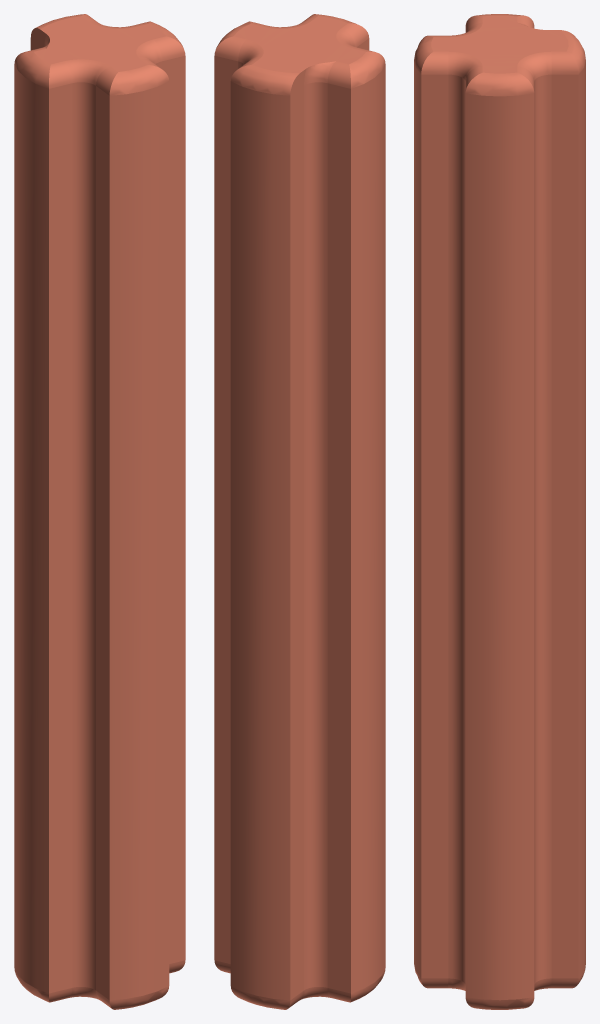
3 views of the same model, side by side, from view 1: azimuth 30°, elevation 25°; view 2: azimuth 150°, elevation 25°; view 3: azimuth 270°, elevation 25° (orthographic).
Parts seen in each view (by area): view 1: [pivoted]; view 2: [pivoted]; view 3: [pivoted].
Boxes of the visible parts, bbox=[...] form: [pivoted]: bbox=[14, 14, 185, 1009]; [pivoted]: bbox=[214, 14, 385, 1009]; [pivoted]: bbox=[414, 14, 585, 1009].
Bounding box in the file's own units: 0.5 × 3 × 0.5.
